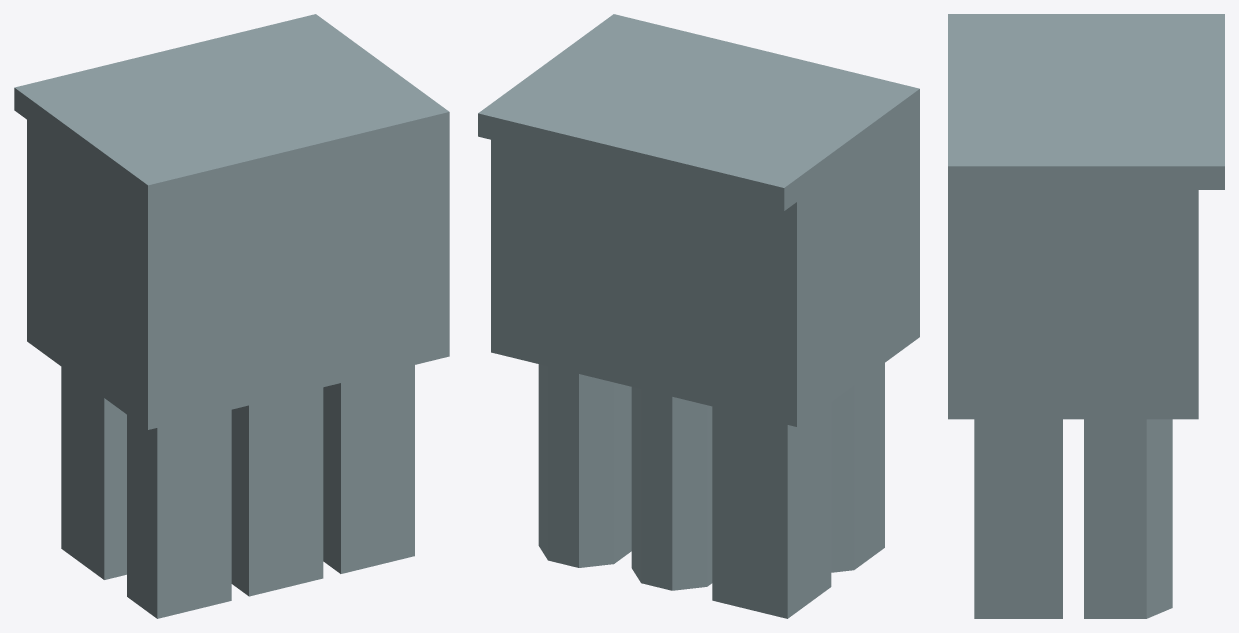
File: male-connector-minimal.obj
The picture shows the model from 3 angles, left to right: view 1: azimuth 30°, elevation 25°; view 2: azimuth 150°, elevation 25°; view 3: azimuth 270°, elevation 25°; orthographic projection. The views are drawn at different scales.
Parts seen in each view (by area): view 1: mesh2, mesh0, mesh4, mesh32, mesh20, mesh8, mesh42, mesh38, mesh39, mesh12, mesh24; view 2: mesh6, mesh0, mesh4, mesh41, mesh42, mesh1, mesh30, mesh18, mesh29, mesh17, mesh38, mesh37 (+4 smaller); view 3: mesh3, mesh0, mesh10, mesh15, mesh16.
Part boxes in pixels (x1,y1,x2,y2): mesh2: [148, 112, 449, 429]; mesh0: [14, 14, 449, 185]; mesh4: [14, 88, 147, 429]; mesh32: [157, 409, 231, 618]; mesh20: [249, 387, 323, 596]; mesh8: [341, 365, 414, 573]; mesh42: [61, 367, 104, 579]; mesh38: [127, 415, 157, 618]; mesh39: [104, 398, 126, 579]; mesh12: [323, 383, 340, 573]; mesh24: [231, 405, 248, 596]; mesh6: [491, 140, 796, 426]; mesh0: [478, 14, 919, 187]; mesh4: [784, 89, 919, 426]; mesh41: [712, 406, 787, 618]; mesh42: [787, 402, 831, 618]; mesh1: [478, 113, 784, 210]; mesh30: [672, 397, 707, 590]; mesh18: [579, 374, 613, 567]; mesh29: [641, 389, 672, 590]; mesh17: [548, 366, 578, 567]; mesh38: [854, 363, 884, 569]; mesh37: [831, 385, 854, 572]; mesh3: [948, 166, 1224, 419]; mesh0: [948, 14, 1224, 166]; mesh10: [974, 419, 1062, 618]; mesh15: [1084, 419, 1146, 618]; mesh16: [1146, 419, 1172, 618].
Bounding box in the file's own units: 0.0138 × 0.0196 × 0.0106.
